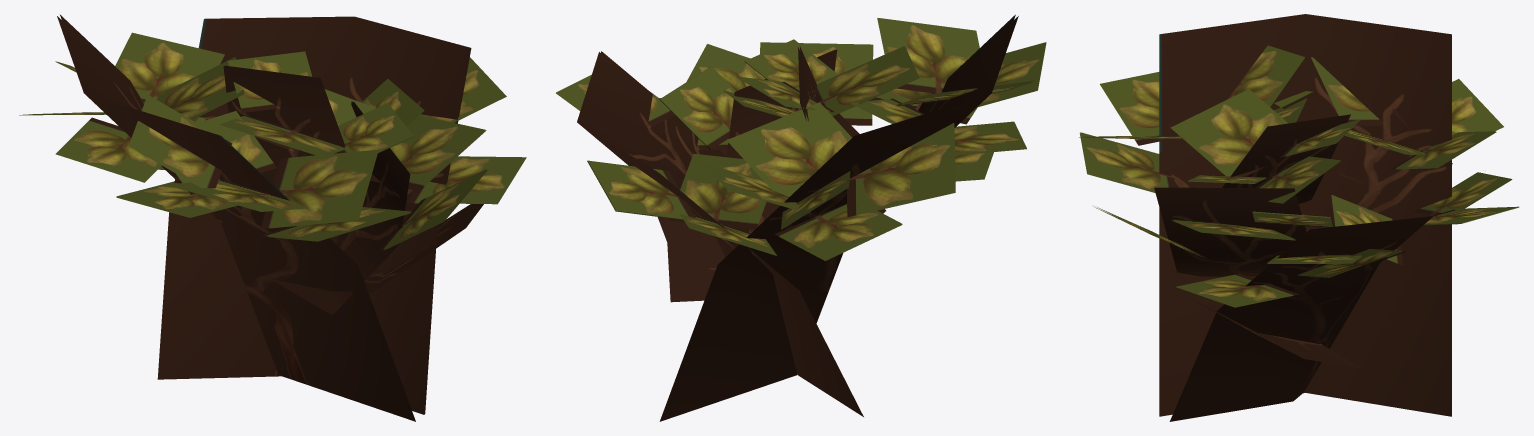
The model's file is bush_02.fbx.
3 views of the same model, side by side, from view 1: azimuth 30°, elevation 25°; view 2: azimuth 150°, elevation 25°; view 3: azimuth 270°, elevation 25° (orthographic). The views are drawn at different scales.
Parts seen in each view (by area): view 1: bush_03; view 2: bush_03; view 3: bush_03.
Part boxes in pixels (x1,y1,x2,y2): bush_03: [19, 14, 526, 421]; bush_03: [556, 14, 1046, 421]; bush_03: [1079, 14, 1519, 421].
Size of the model in its own units: 7.09 by 5.12 by 6.94.
